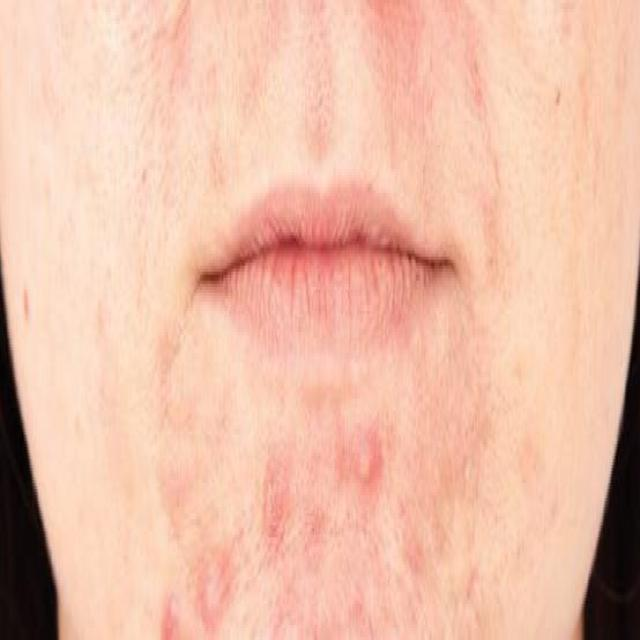blackheads: (192, 540, 230, 628), (258, 447, 283, 540), (352, 429, 382, 489)
